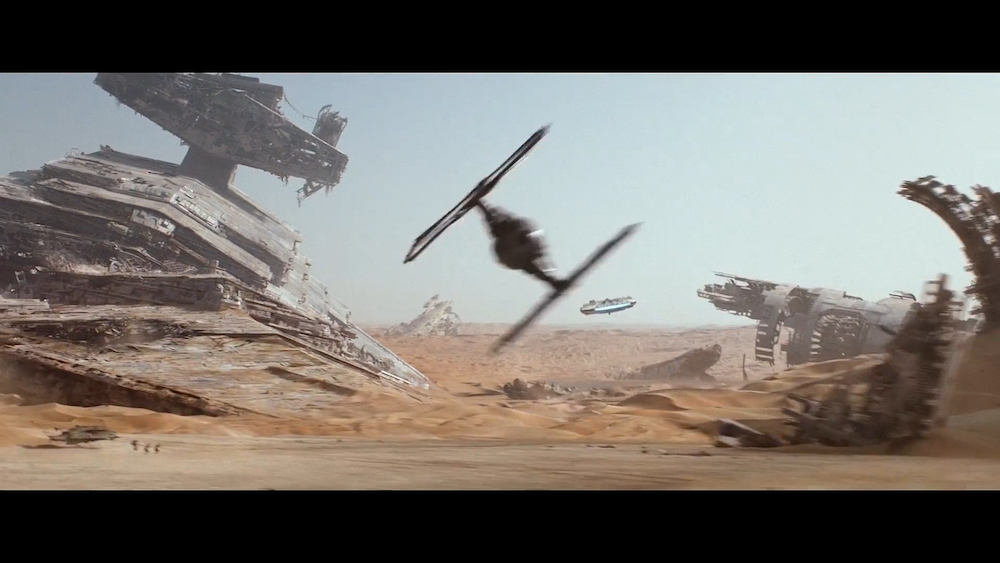Millennium Falcon: (580, 296, 638, 316)
Tie Fighter: (401, 123, 646, 359)
